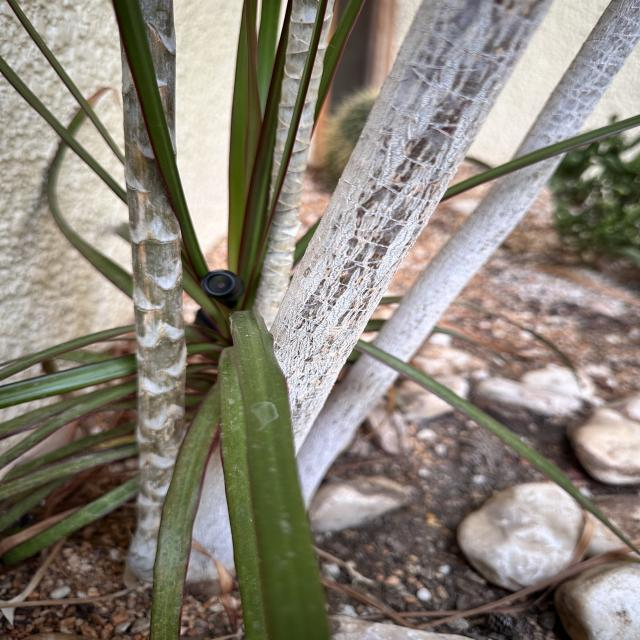hidden camera: (203, 272, 236, 295)
